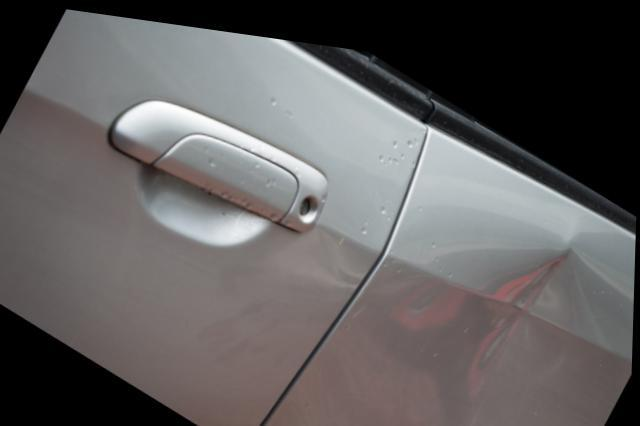dent: (376, 229, 613, 426)
